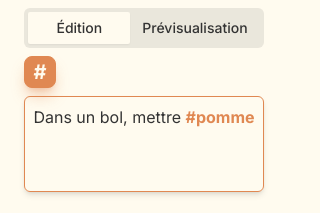
Scenario: Preview › Should show preview when the preview button is clicked
Click the tab "Prévisualisation": (195, 28) x1=130 y1=12 x2=260 y2=44
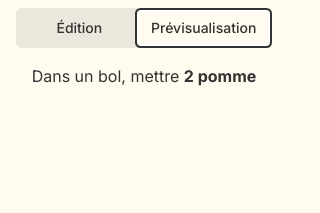
Expected: the text "Dans un bol, mettre 2 pomme" is shown, x1=32 y1=66 x2=256 y2=86
